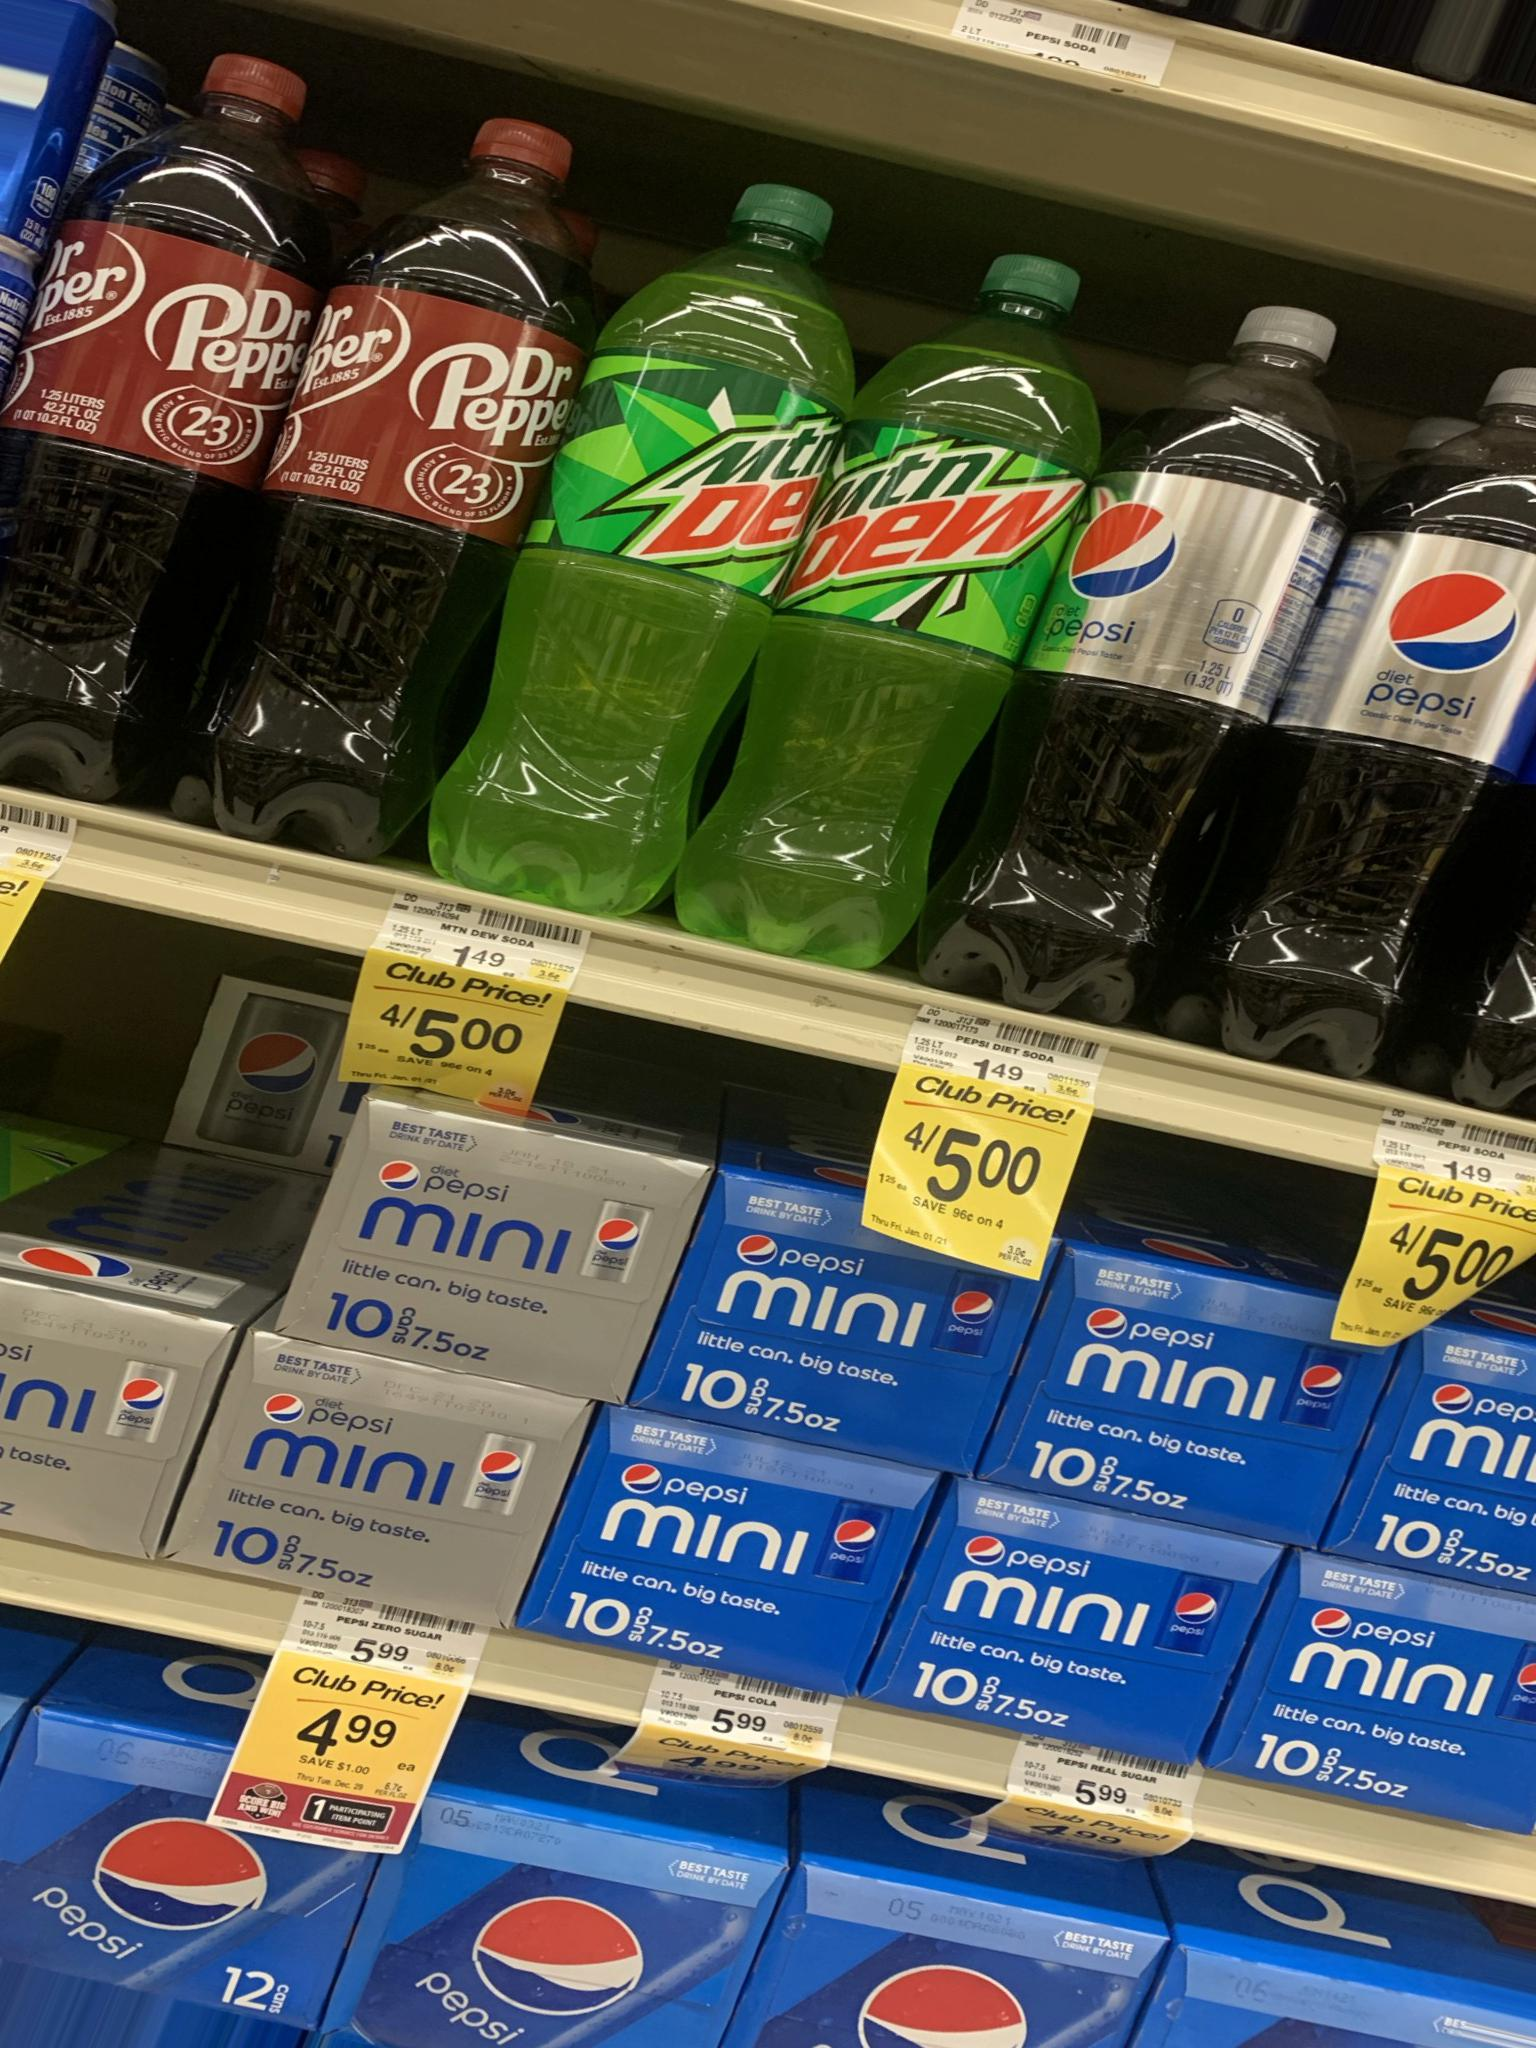soda: (2, 66, 424, 795), (1118, 279, 1496, 1077), (607, 176, 945, 959), (678, 1150, 989, 1477), (202, 1314, 515, 1638), (1037, 1232, 1342, 1558), (342, 1092, 658, 1405), (608, 1422, 881, 1721), (937, 1500, 1213, 1775), (1292, 1563, 1536, 1838)
